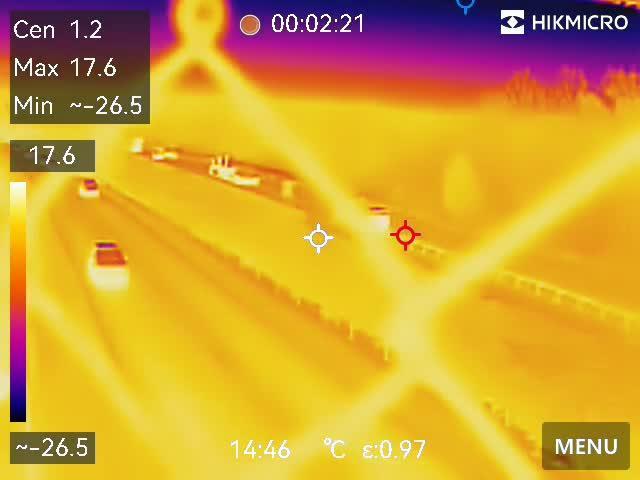heavyTruck: (208, 149, 263, 187)
vehicle: (88, 231, 132, 290), (78, 171, 105, 198)
